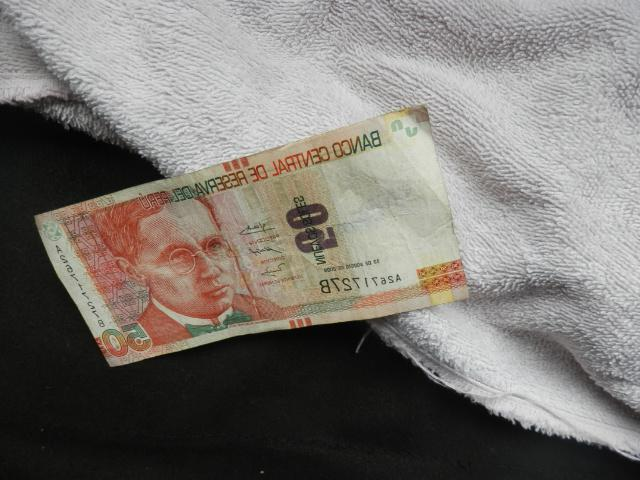B50: (34, 107, 470, 367)
